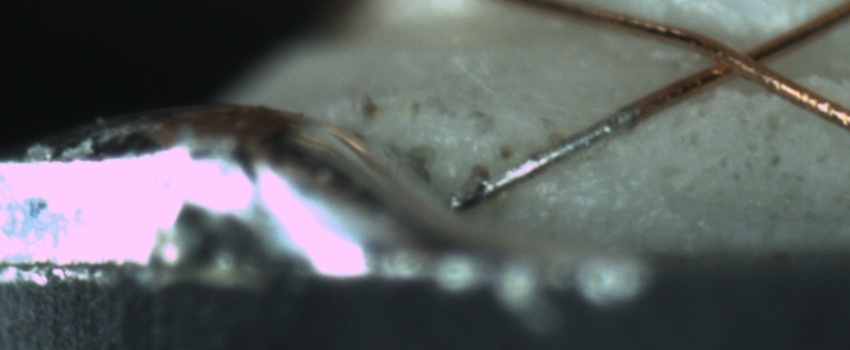CL: (693, 28, 788, 89)
TS: (448, 103, 635, 210)
